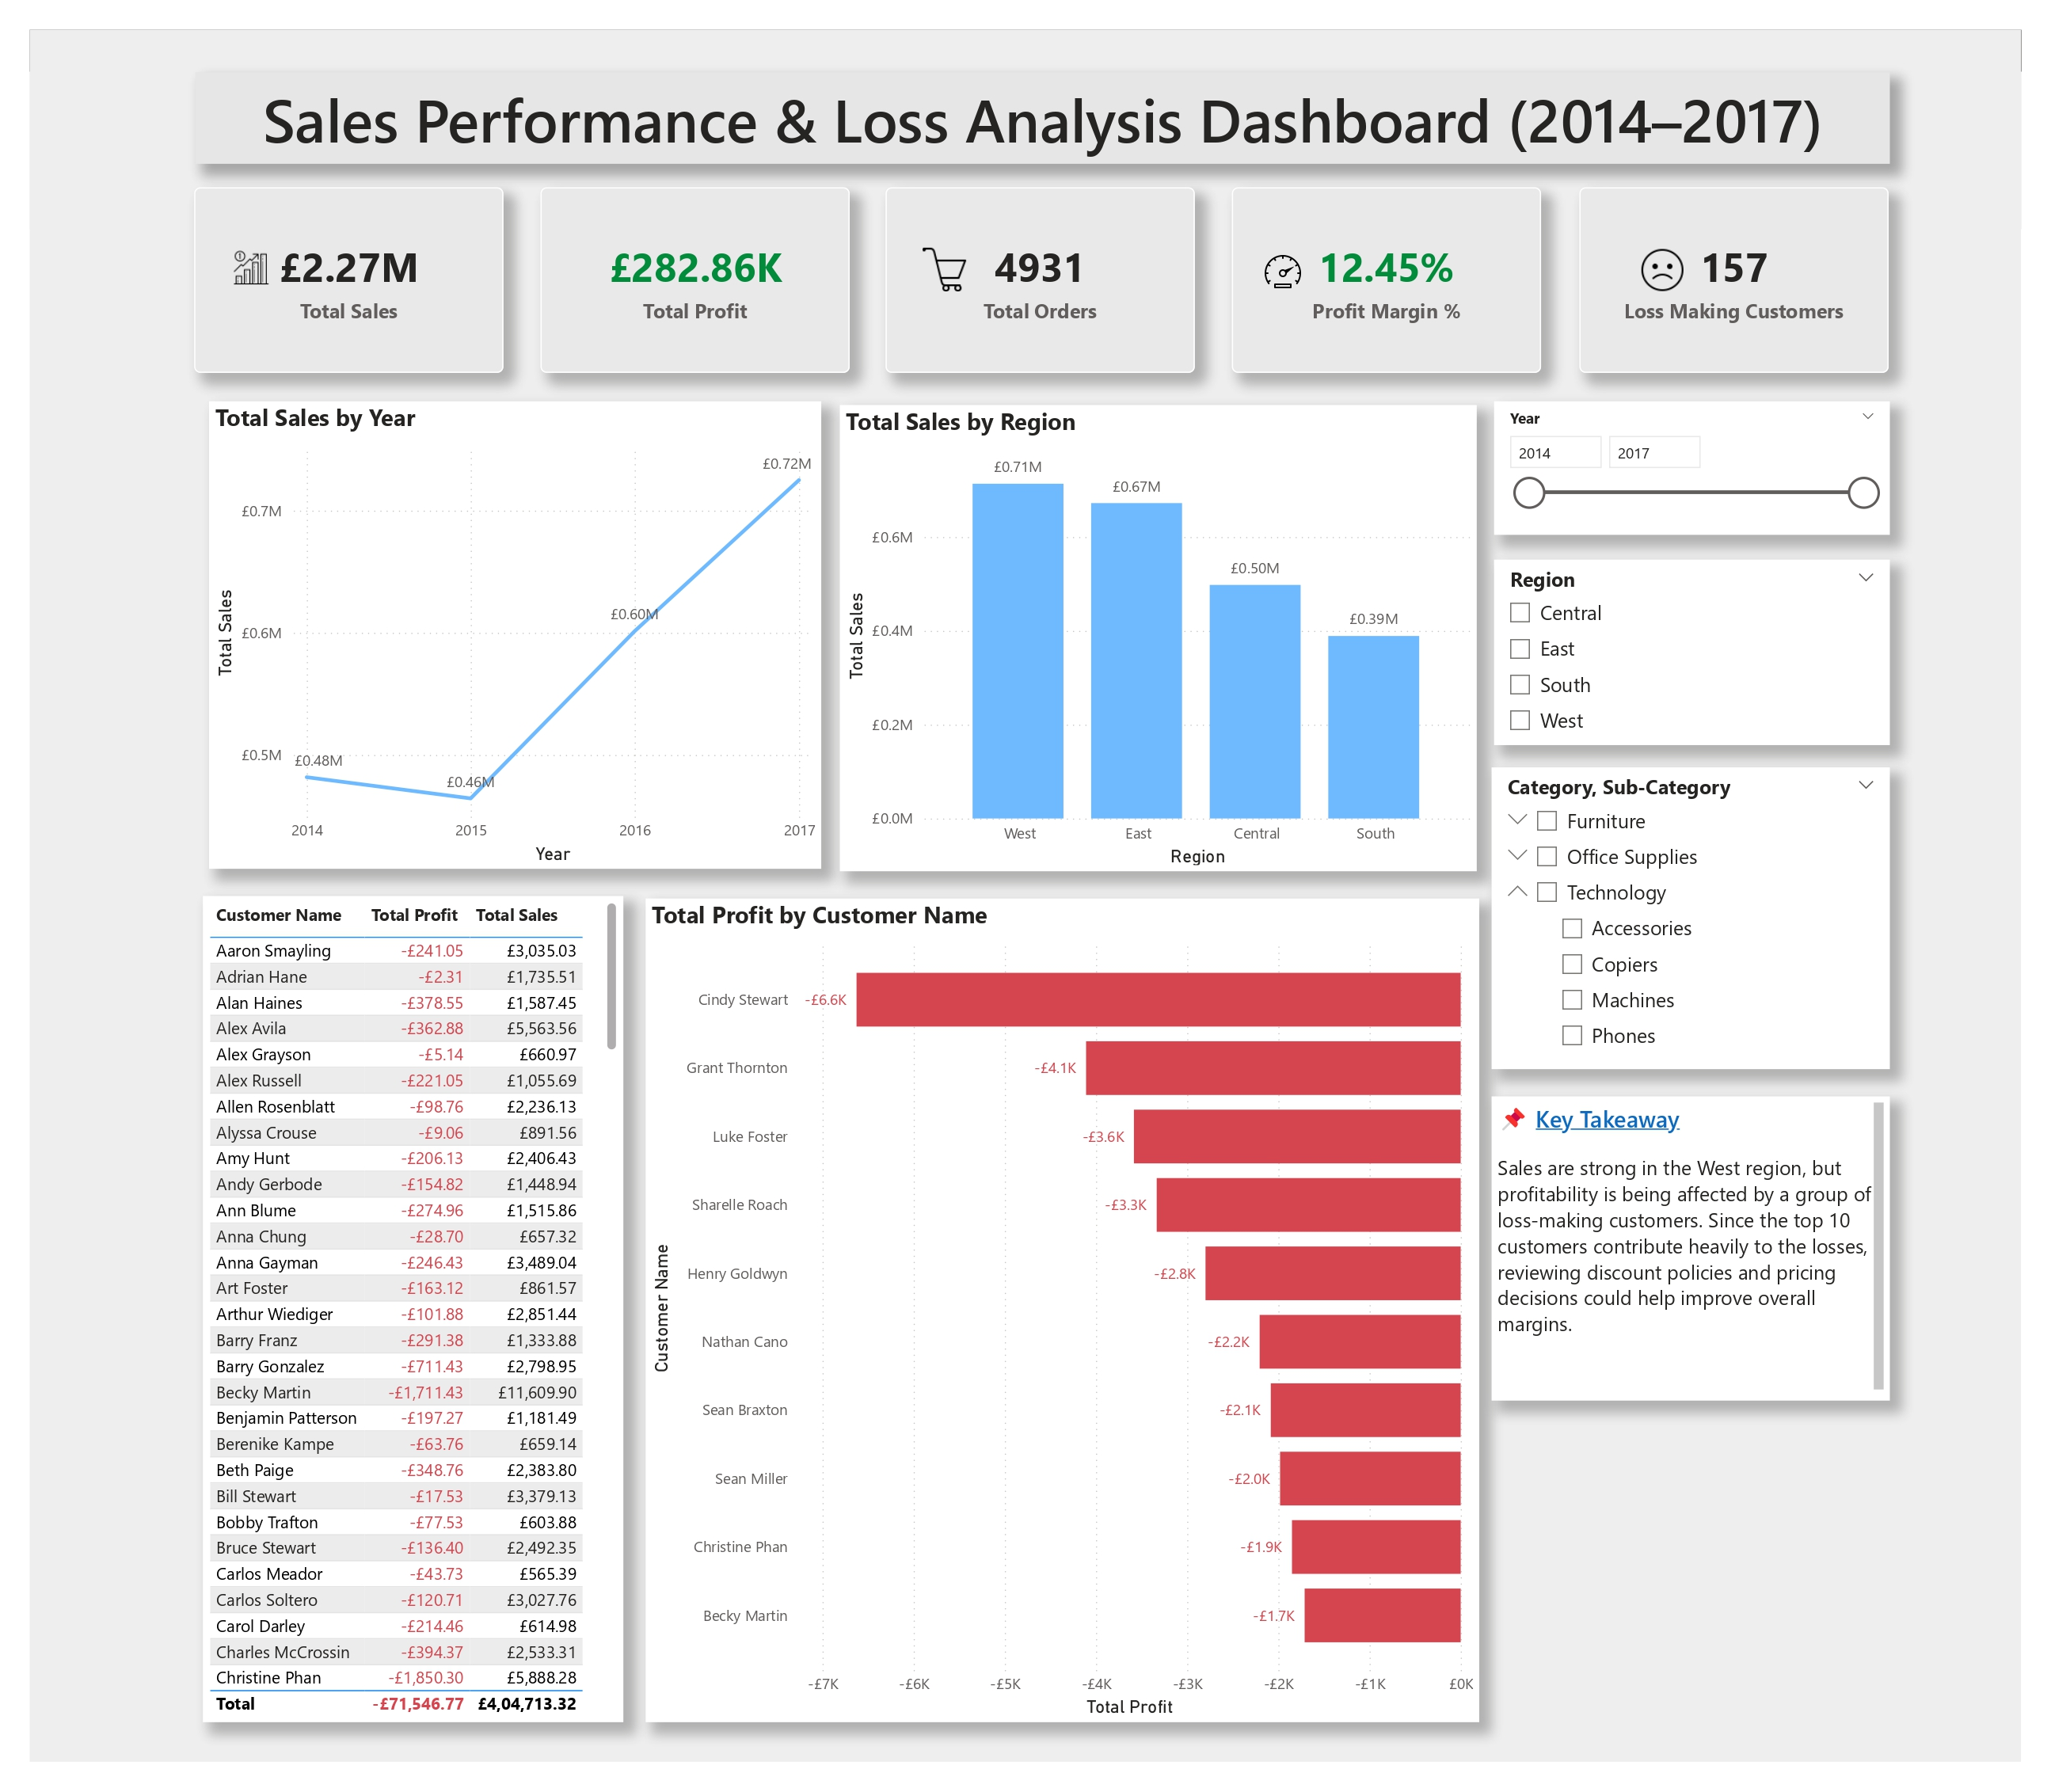

The dashboard page shown, as its layout file describes it:
{"tool":"powerbi","page":{"name":"Page 1","canvas":[1610,1400],"ordinal":0},"visuals":[{"type":"card","fields":{"Values":["BaseMeasures.Total Sales"]},"box":[133,126.7,250,150],"z":0},{"type":"card","fields":{"Values":["BaseMeasures.Total Profit"]},"box":[412.7,126.7,250,150],"z":1000},{"type":"card","fields":{"Values":["BaseMeasures.Total Orders"]},"box":[692.4,126.7,250,150],"z":2000},{"type":"card","fields":{"Values":["BaseMeasures.Profit Margin %"]},"box":[972.1,126.7,250,150],"z":3000},{"type":"lineChart","fields":{"Category":["retail_analysis orders.Order Date.Variation.Date Hierarchy.Year","retail_analysis orders.Order Date.Variation.Date Hierarchy.Month"],"Y":["BaseMeasures.Total Sales"]},"box":[145,300,495,377.5],"z":4000},{"type":"columnChart","fields":{"Category":["retail_analysis orders.Region"],"Y":["BaseMeasures.Total Sales"]},"box":[655,302.5,515,377.5],"z":5000},{"type":"tableEx","fields":{"Values":["retail_analysis orders.Customer Name","BaseMeasures.Total Profit","BaseMeasures.Total Sales"]},"box":[140,700,340,668],"z":6000},{"type":"card","fields":{"Values":["BaseMeasures.Loss Making Customers"]},"box":[1253,126.7,250,150],"z":7000},{"type":"clusteredBarChart","fields":{"Category":["retail_analysis orders.Customer Name"],"Y":["BaseMeasures.Total Profit"]},"box":[498,702,674,666],"z":8000},{"type":"slicer","fields":{"Values":["retail_analysis orders.Year"]},"box":[1184,300,320,108],"z":9000},{"type":"slicer","fields":{"Values":["retail_analysis orders.Region"]},"box":[1184,428,320,150],"z":10000},{"type":"slicer","fields":{"Values":["retail_analysis orders.Category","retail_analysis orders.Sub-Category"]},"box":[1182,596,322,244],"z":11000},{"type":"image","box":[1258.3,175,125,36.7],"z":12000},{"type":"image","box":[960.6,179.4,103.3,31.7],"z":13000},{"type":"image","box":[115.7,174.3,127.1,37.1],"z":14000},{"type":"image","box":[677.2,174.4,126.7,36.7],"z":15000},{"type":"textbox","box":[134,34,1370,74],"z":16000},{"type":"textbox","box":[1182,862,322,246],"z":16001}]}

Visuals, with their boxes in screenshot pixels (x1, y1, x2, y2):
card - BaseMeasures.Total Sales: region(167, 138, 481, 326)
card - BaseMeasures.Total Profit: region(519, 138, 832, 326)
card - BaseMeasures.Total Orders: region(869, 138, 1184, 326)
card - BaseMeasures.Profit Margin %: region(1221, 138, 1535, 326)
lineChart - retail_analysis orders.Order Date.Variation.Date Hierarchy.Year x retail_analysis orders.Order Date.Variation.Date Hierarchy.Month: region(182, 356, 804, 830)
columnChart - retail_analysis orders.Region x BaseMeasures.Total Sales: region(823, 359, 1470, 833)
tableEx - retail_analysis orders.Customer Name x BaseMeasures.Total Profit: region(176, 858, 603, 1697)
card - BaseMeasures.Loss Making Customers: region(1574, 138, 1888, 326)
clusteredBarChart - retail_analysis orders.Customer Name x BaseMeasures.Total Profit: region(626, 861, 1472, 1697)
slicer - retail_analysis orders.Year: region(1487, 356, 1889, 491)
slicer - retail_analysis orders.Region: region(1487, 516, 1889, 705)
slicer - retail_analysis orders.Category x retail_analysis orders.Sub-Category: region(1485, 728, 1889, 1034)
image: region(1581, 199, 1738, 245)
image: region(1207, 204, 1337, 244)
image: region(146, 198, 305, 244)
image: region(850, 198, 1010, 244)
textbox: region(169, 21, 1889, 114)
textbox: region(1485, 1062, 1889, 1371)
